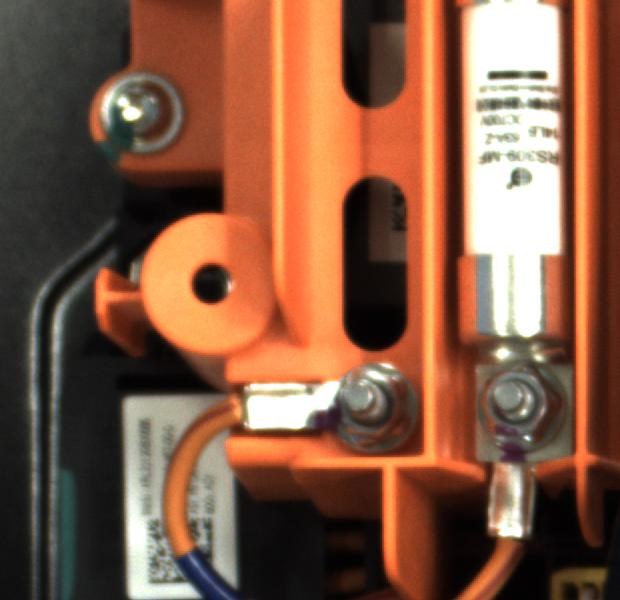screw_m: (90, 65, 198, 161)
screw_s: (470, 363, 569, 455), (316, 358, 408, 449)
